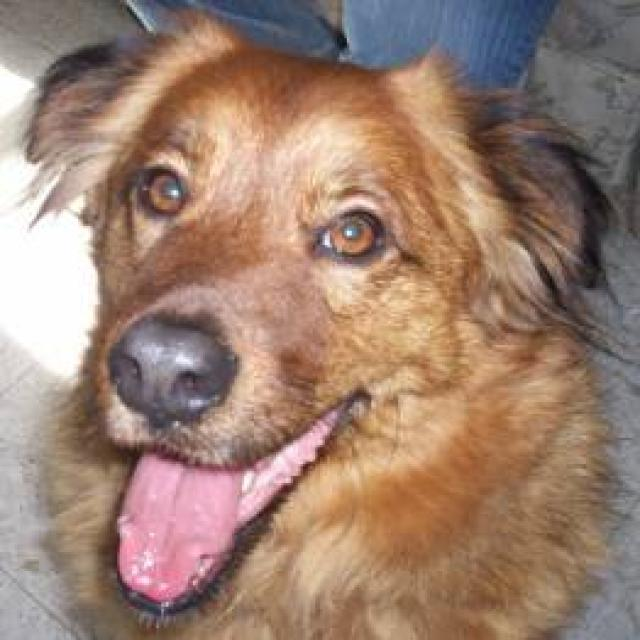Dog: (12, 14, 624, 625)
